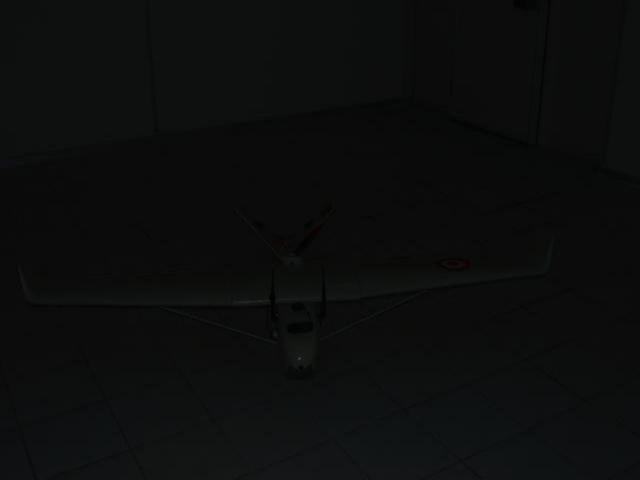iha: (15, 193, 576, 372)
